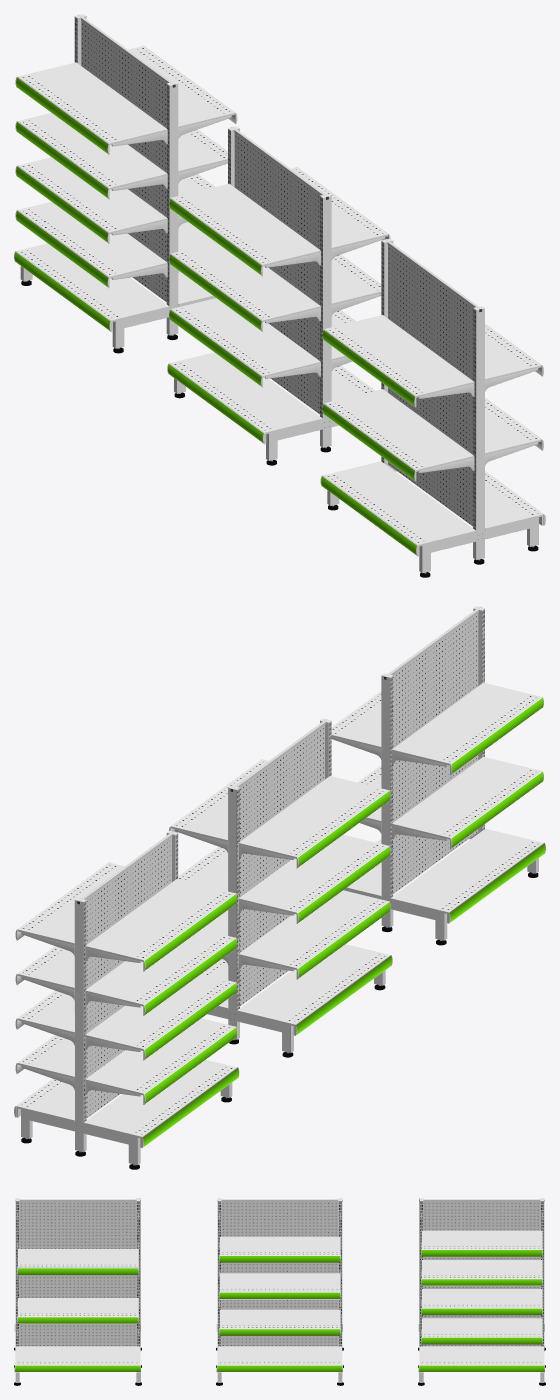
The model's file is grocery_shelf.fbx.
3 views of the same model, one above another, from view 1: azimuth 30°, elevation 25°; view 2: azimuth 150°, elevation 25°; view 3: azimuth 270°, elevation 25° (orthographic). The views are drawn at different scales.
Visible parts, largest first — view 1: grocery_shelf_base (×3), grocery_shelves002 (×3), grocery_shelves001 (×3), grocery_shelves003 (×2), grocery_shelves004; view 2: grocery_shelf_base (×3), grocery_shelves002 (×3), grocery_shelves001 (×3), grocery_shelves003 (×2), grocery_shelves004; view 3: grocery_shelf_base (×3), grocery_shelves002 (×3), grocery_shelves001 (×3), grocery_shelves003 (×2), grocery_shelves004.
Part boxes in pixels (box(x1,y1,x2,y2)): grocery_shelf_base (×3): box(14, 14, 545, 577); grocery_shelves002 (×3): box(15, 157, 543, 407); grocery_shelves001 (×3): box(15, 201, 543, 481); grocery_shelves003 (×2): box(15, 113, 390, 276); grocery_shelves004: box(15, 45, 237, 154); grocery_shelf_base (×3): box(14, 606, 545, 1169); grocery_shelves002 (×3): box(15, 682, 543, 1060); grocery_shelves001 (×3): box(15, 756, 543, 1104); grocery_shelves003 (×2): box(15, 759, 390, 1015); grocery_shelves004: box(15, 862, 237, 971); grocery_shelf_base (×3): box(14, 1198, 545, 1385); grocery_shelves002 (×3): box(17, 1249, 542, 1315); grocery_shelves001 (×3): box(17, 1298, 542, 1344); grocery_shelves003 (×2): box(219, 1236, 542, 1285); grocery_shelves004: box(421, 1230, 542, 1256).
Size of the model in its own units: 73.26 by 137 by 395.
